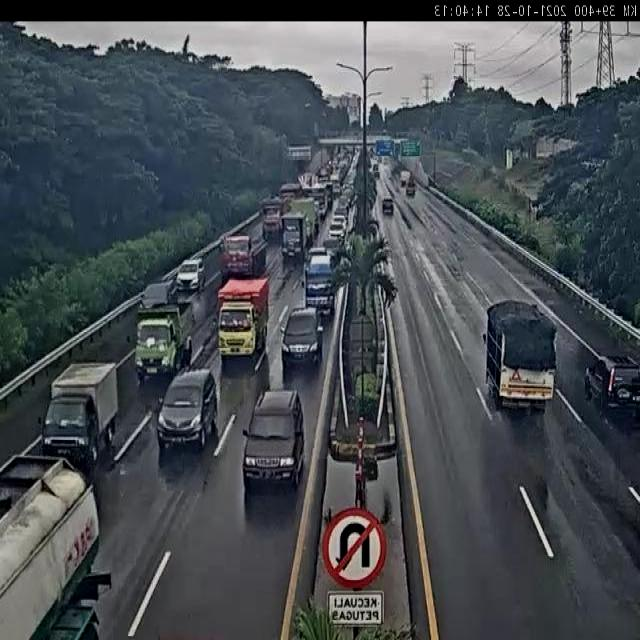Bus: (308, 184, 327, 220)
Car: (242, 389, 305, 494), (156, 366, 219, 454), (581, 354, 640, 412), (279, 305, 323, 373), (178, 258, 206, 290), (328, 216, 347, 246)
Truck: (0, 446, 112, 640), (42, 361, 121, 475), (485, 298, 559, 414), (136, 294, 194, 384), (217, 275, 271, 362), (220, 231, 265, 281), (280, 211, 310, 266), (261, 199, 284, 241)
Van: (304, 248, 339, 316)
